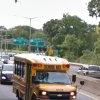Bus: (8, 47, 82, 100)
